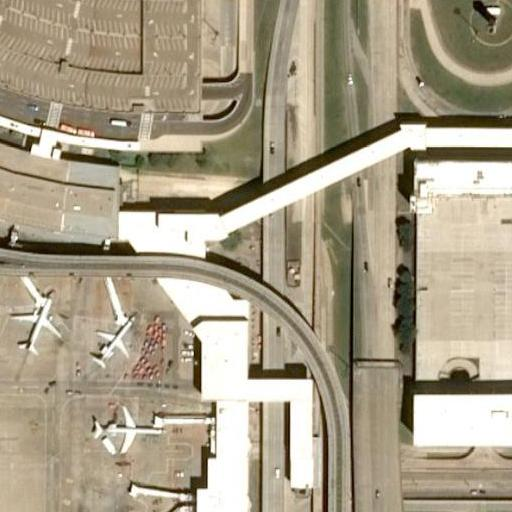Aircraft: (8, 277, 66, 364), (88, 399, 175, 452), (83, 308, 145, 379)
